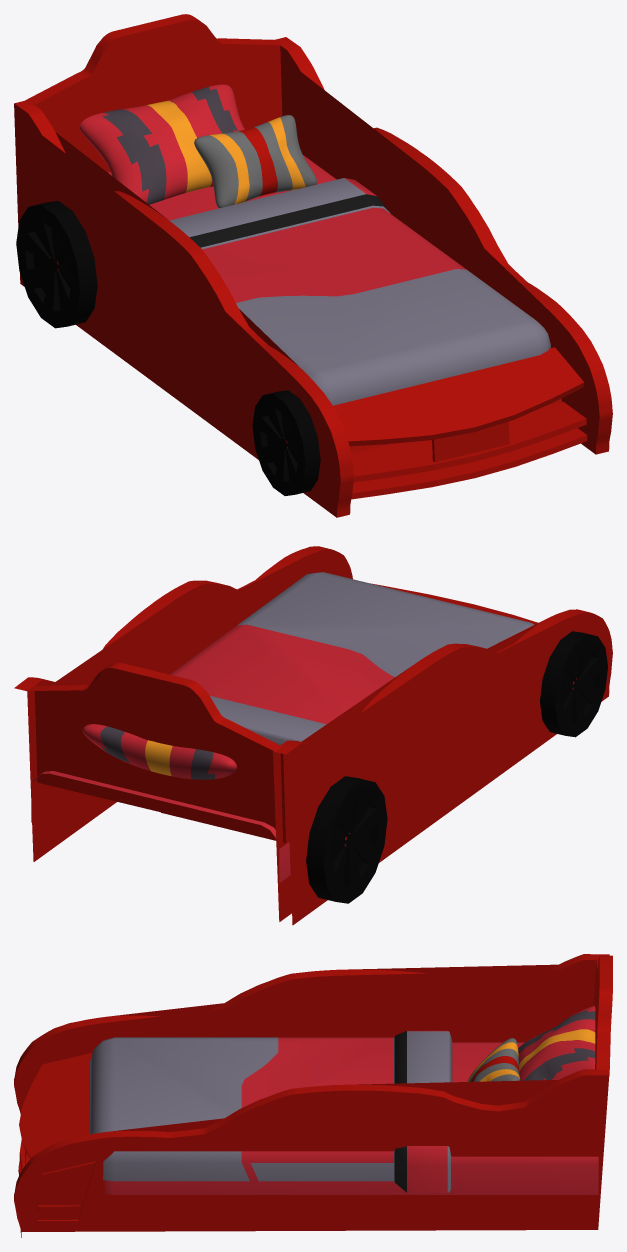
File: yatak.fbx
3 views of the same model, one above another, from view 1: azimuth 30°, elevation 25°; view 2: azimuth 150°, elevation 25°; view 3: azimuth 270°, elevation 25° (orthographic). The views are drawn at different scales.
Parts seen in each view (by area): view 1: yatak; view 2: yatak; view 3: yatak.
Boxes of the visible parts, x1,y1,x2,y2 form: yatak: (14, 14, 612, 517); yatak: (14, 546, 612, 925); yatak: (14, 954, 612, 1237).
Bounding box in the file's own units: 147 × 110 × 289.
